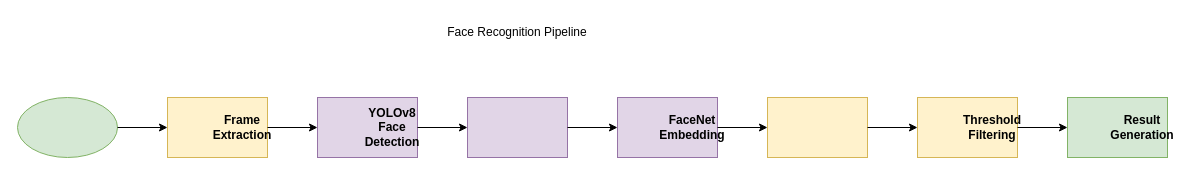
This 1191x175 diagram has some shape labels left out. Each missing label, with the centre of its shape:
"Face Cropping" belongs at pixel 517 127.
"Similarity Comparison" belongs at pixel 817 127.
"Upload Video" belongs at pixel 67 127.
